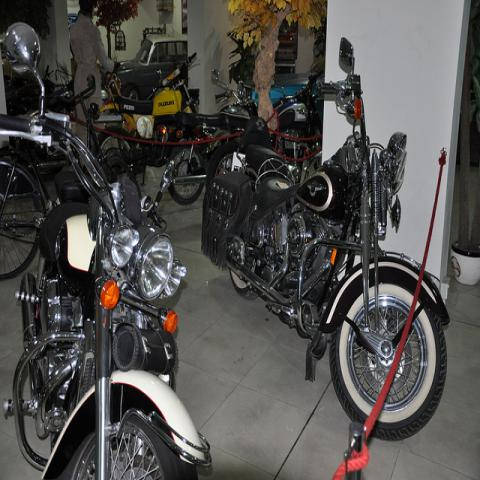car: (117, 34, 188, 101), (236, 54, 325, 106)
motorcycle: (200, 38, 452, 420), (1, 20, 212, 474), (157, 66, 271, 204), (92, 52, 200, 187), (252, 35, 326, 183)
